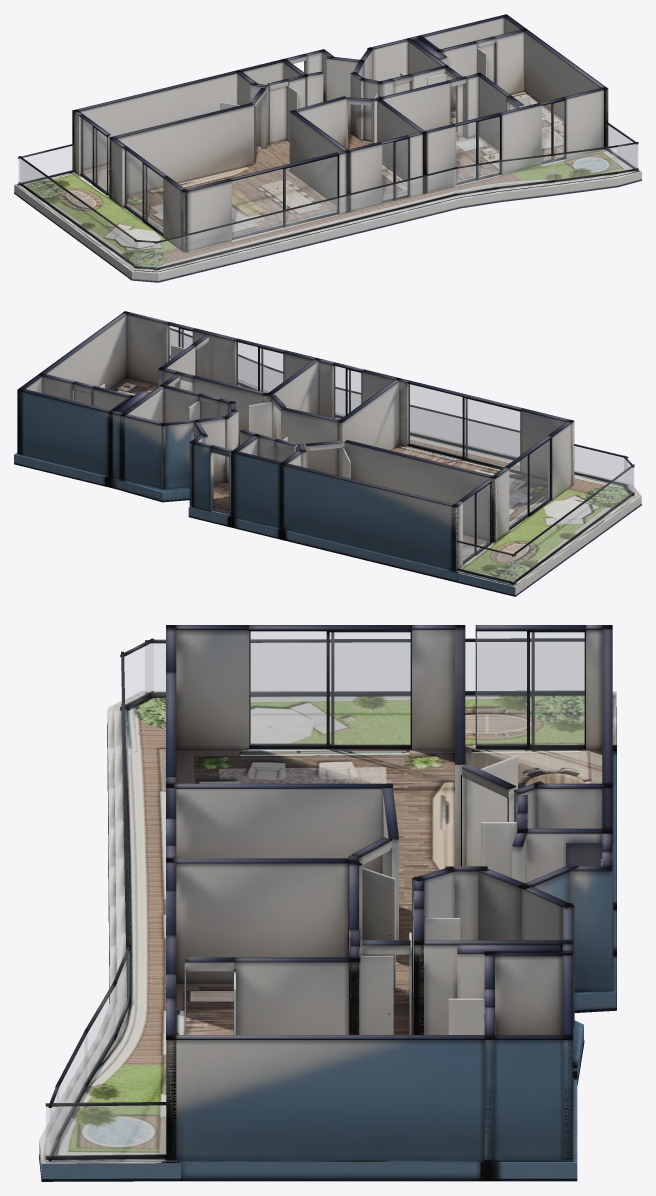
3 renders of one model, top to bottom at view 1: azimuth 30°, elevation 25°; view 2: azimuth 150°, elevation 25°; view 3: azimuth 270°, elevation 25°, orthographic. The views are drawn at different scales.
Parts seen in each view (by area): view 1: plan, railg6_m, glass2_m, railg8_m, glass4_m, glass1_m, railg3_m, railg4_m, glass0_m, railg0_m, glass3_m, glass5_m (+4 smaller); view 2: plan, glass2_m, railg6_m, railg8_m, glass1_m, glass4_m, railg0_m, glass0_m, glass3_m, railg4_m, glass5_m; view 3: plan, glass1_m, railg8_m, glass0_m, railg1_m, railg4_m, railg7_m, railg3_m, railg5_m.
Part boxes in pixels (x1,y1,x2,y2): plan: (14, 14, 641, 282); railg6_m: (155, 169, 457, 268); glass2_m: (232, 156, 337, 237); railg8_m: (20, 159, 137, 266); glass4_m: (456, 117, 499, 182); glass1_m: (124, 150, 162, 232); railg3_m: (550, 147, 616, 180); railg4_m: (494, 156, 554, 186); glass0_m: (81, 118, 108, 193); railg0_m: (18, 146, 73, 182); glass3_m: (382, 139, 407, 200); glass5_m: (542, 101, 564, 161); plan: (14, 311, 641, 596); glass2_m: (408, 384, 519, 470); railg6_m: (336, 389, 627, 483); railg8_m: (512, 468, 633, 582); glass1_m: (509, 440, 549, 527); glass4_m: (236, 342, 282, 392); railg0_m: (457, 542, 515, 582); glass0_m: (463, 484, 489, 561); glass3_m: (334, 366, 360, 418); railg4_m: (238, 356, 268, 392); glass5_m: (168, 325, 192, 360); plan: (39, 625, 616, 1181); glass1_m: (249, 631, 410, 745); railg8_m: (145, 642, 583, 692); glass0_m: (476, 631, 584, 745); railg1_m: (46, 1105, 165, 1155); railg4_m: (85, 986, 115, 1083); railg7_m: (121, 644, 152, 707); railg3_m: (57, 1034, 87, 1132); railg5_m: (113, 951, 129, 1035).
Bounding box in the file's own units: 19.01 × 2.62 × 9.81.
2 materials, 1 textured.
